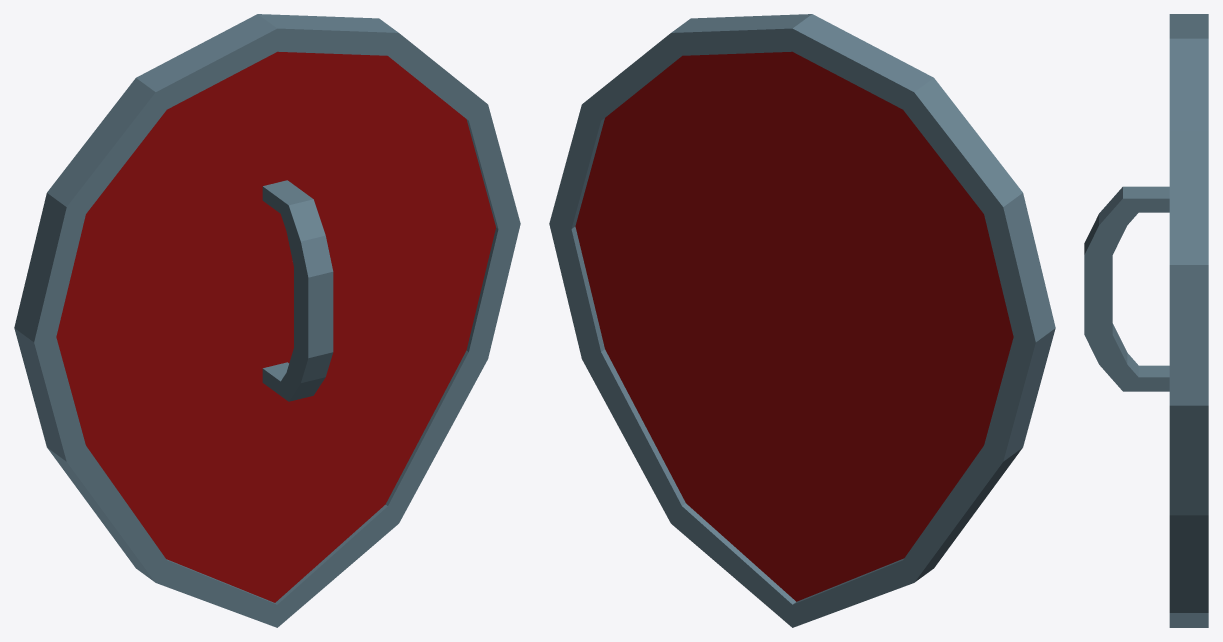
File: Shield_2.fbx
3 views of the same model, side by side, from view 1: azimuth 30°, elevation 25°; view 2: azimuth 150°, elevation 25°; view 3: azimuth 270°, elevation 25° (orthographic).
Visible parts, largest first — view 1: Shield.001; view 2: Shield.001; view 3: Shield.001.
Part boxes in pixels (bbox=[...]): Shield.001: bbox=[14, 14, 520, 627]; Shield.001: bbox=[549, 14, 1055, 627]; Shield.001: bbox=[1084, 14, 1208, 627].
Size of the model in its own units: 33.24 by 39.13 by 7.49.
